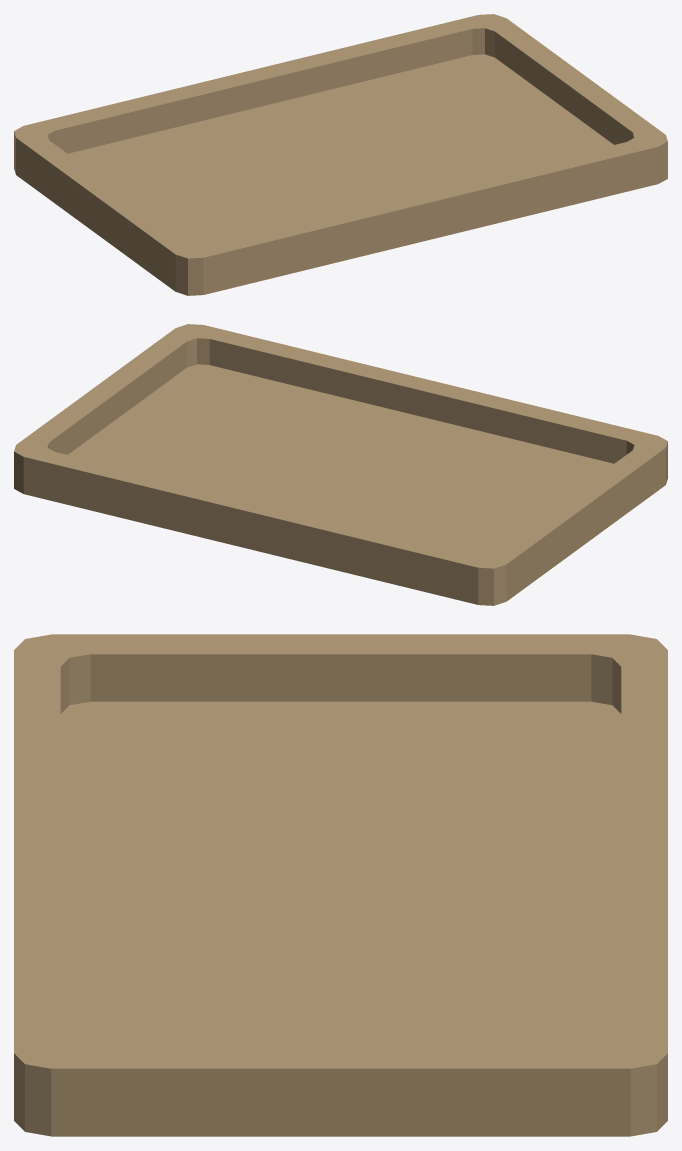
File: serving_tray.glb
The picture shows the model from 3 angles, top to bottom: view 1: azimuth 30°, elevation 25°; view 2: azimuth 150°, elevation 25°; view 3: azimuth 270°, elevation 25°; orthographic projection. The views are drawn at different scales.
Parts seen in each view (by area): view 1: serving_tray; view 2: serving_tray; view 3: serving_tray.
Boxes of the visible parts, x1,y1,x2,y2 form: serving_tray: (14, 14, 667, 295); serving_tray: (14, 324, 667, 605); serving_tray: (14, 634, 667, 1136).
Size of the model in its own units: 0.55 by 0.04 by 0.35.
